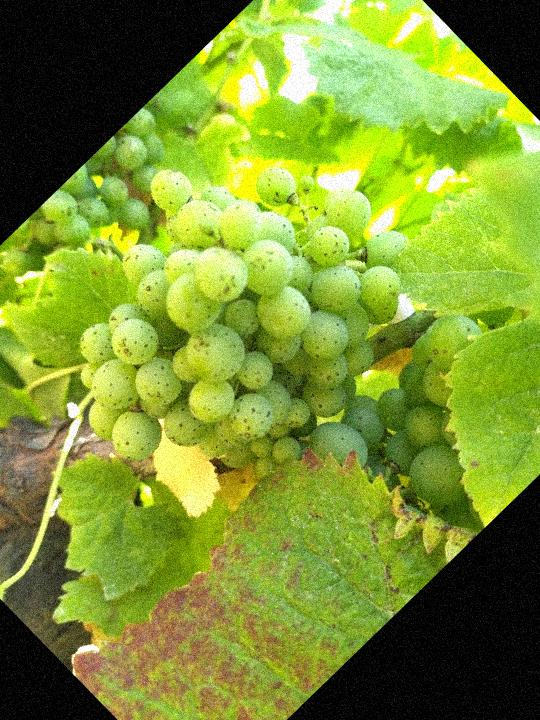grape: (0, 79, 468, 552)
